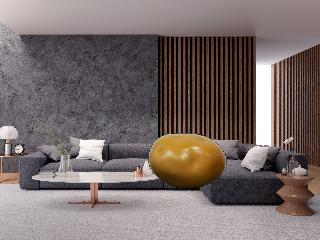potato: (147, 131, 230, 191)
